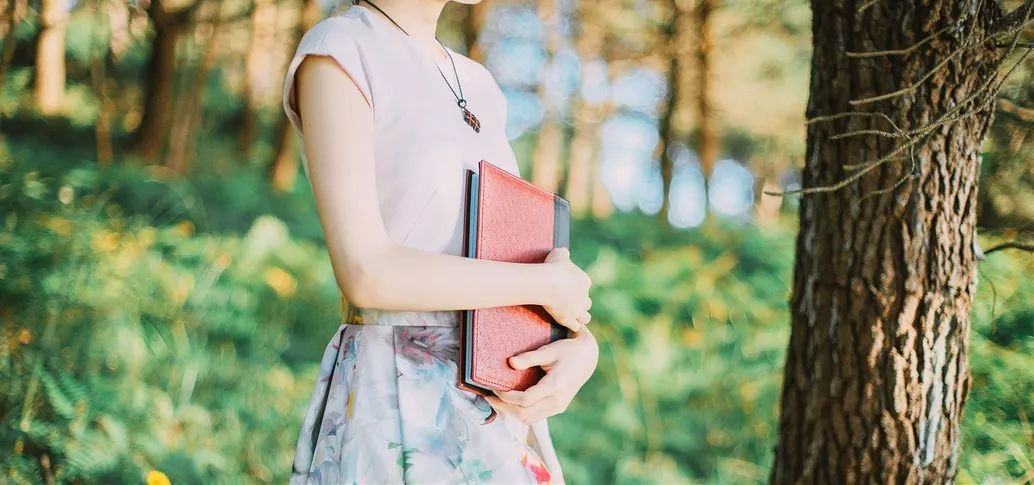book: (444, 154, 602, 410)
